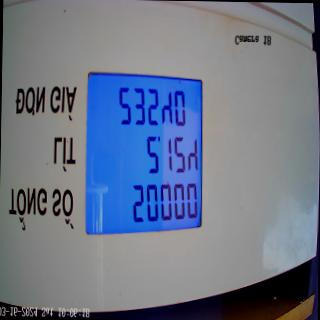screen: (81, 69, 206, 240)
